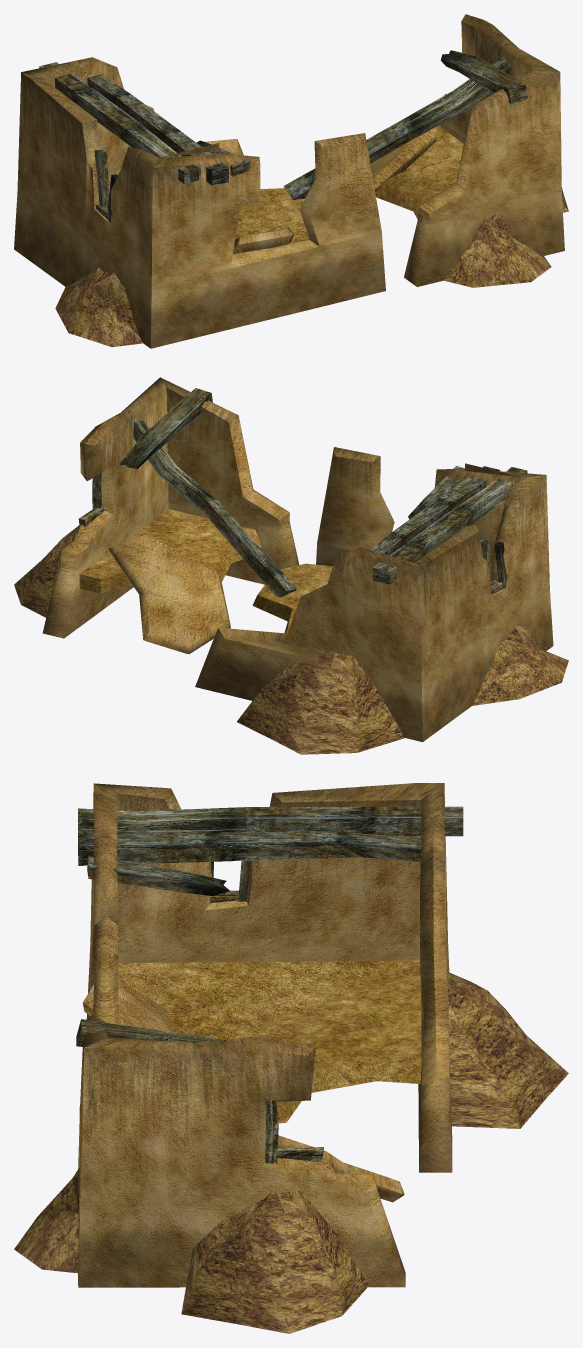
3 renders of one model, top to bottom at view 1: azimuth 30°, elevation 25°; view 2: azimuth 150°, elevation 25°; view 3: azimuth 270°, elevation 25°, orthographic. The views are drawn at different scales.
Parts seen in each view (by area): view 1: hr_rn2-col; view 2: hr_rn2-col; view 3: hr_rn2-col.
Boxes of the visible parts, box(x1,y1,x2,y2) form: hr_rn2-col: box(14, 14, 568, 348); hr_rn2-col: box(14, 377, 568, 754); hr_rn2-col: box(14, 783, 568, 1333).
Size of the model in its own units: 13.99 by 4.64 by 9.49.
Materials: 8 (8 with a texture image).
